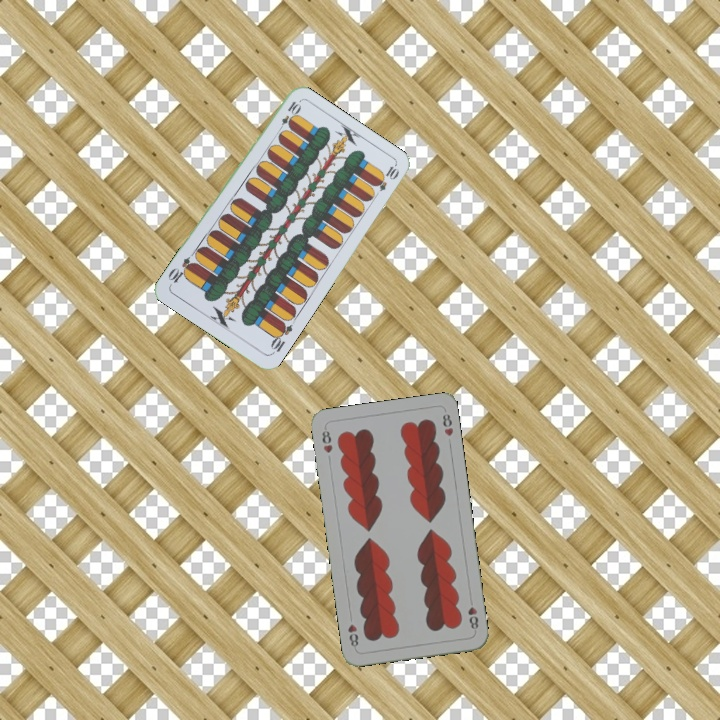E10: (266, 318, 295, 357), (274, 97, 302, 135)
H8: (464, 594, 481, 632), (318, 424, 335, 456)
